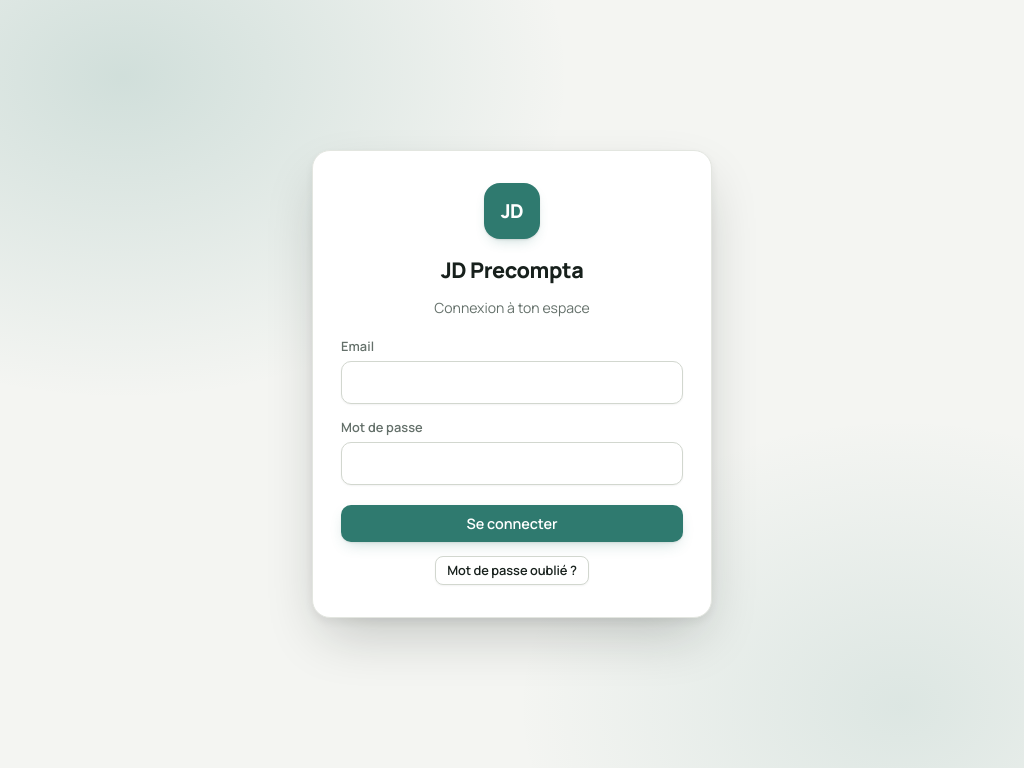
Login — « Mot de passe oublié ? » › la limite de débit se dit, et aucun message de succès ne l’accompagne
This screenshot has width=1024, height=768.
Type "client@exemple-fictif.fr" into the field labelled "Email" at (512,382), box [341,361,683,404]
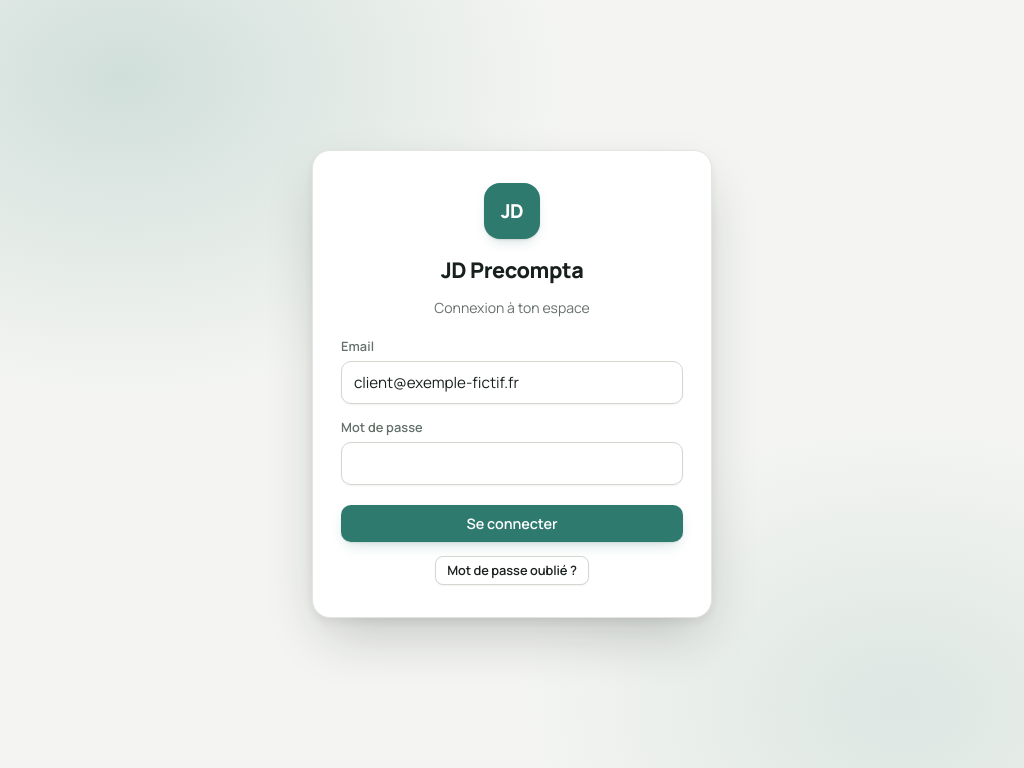
Click the button "Mot de passe oublié ?" at (512,571), box [435,556,589,585]
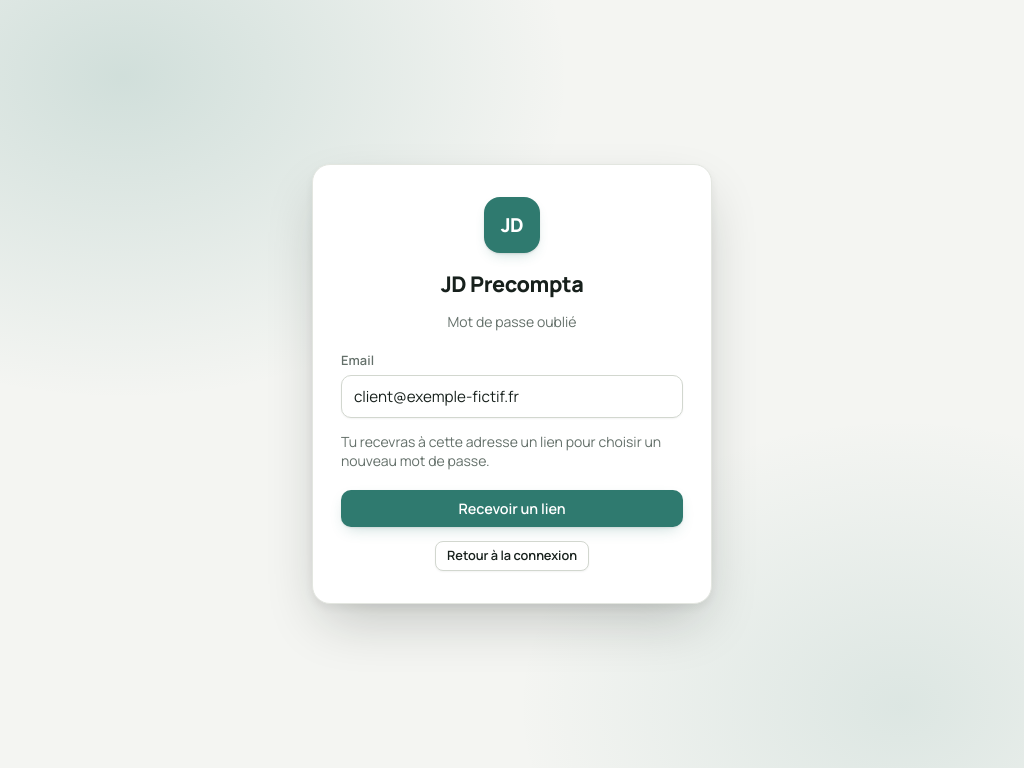
Submit the form, box [341,351,683,528]
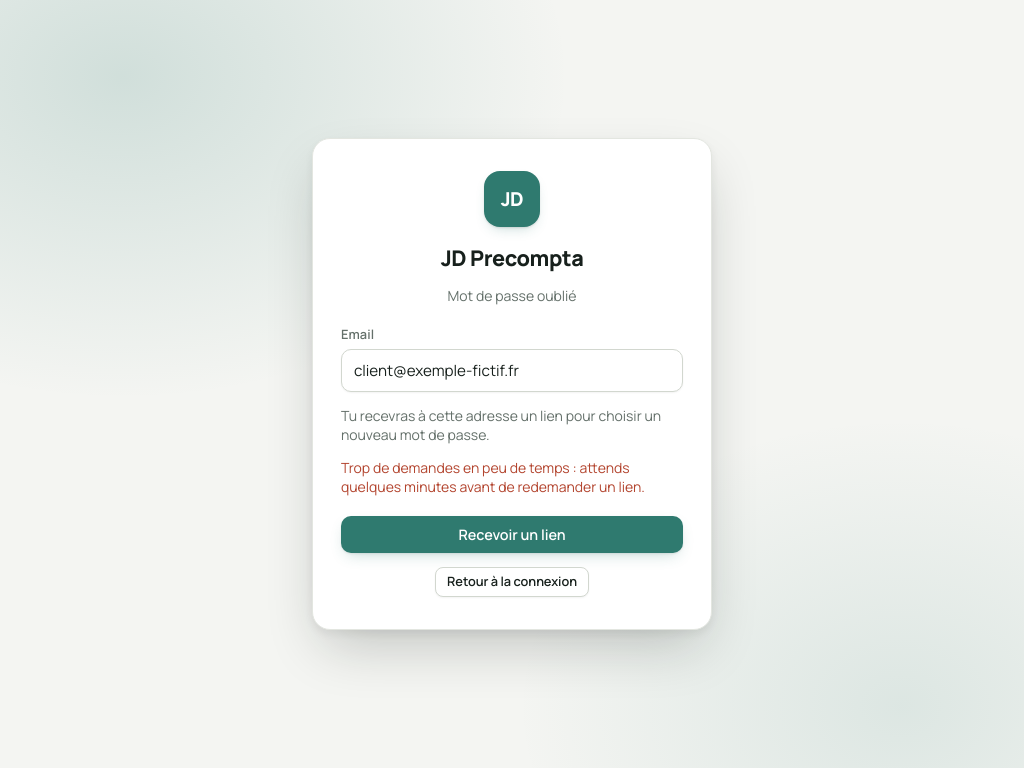
Expected: the message shows "Trop de demandes en peu de temps : attends quelques minutes avant de redemander un lien.", [341,458,645,496]
